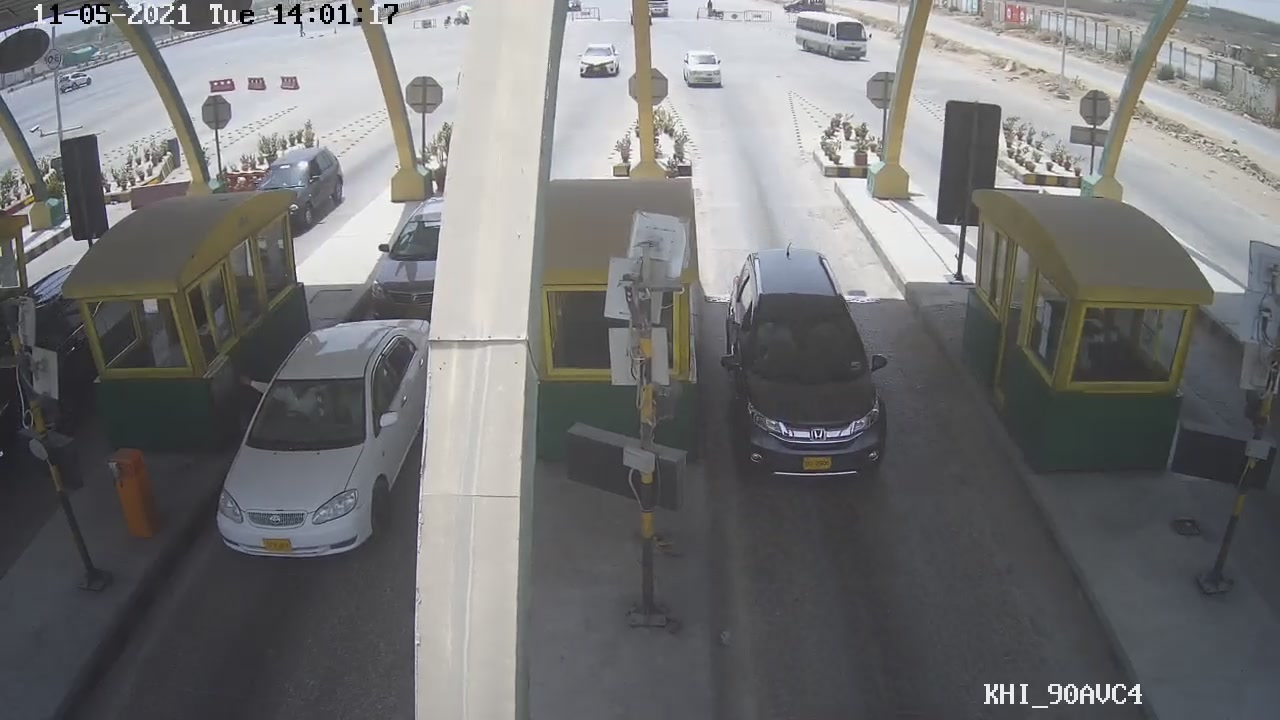F1: (718, 236, 901, 484)
